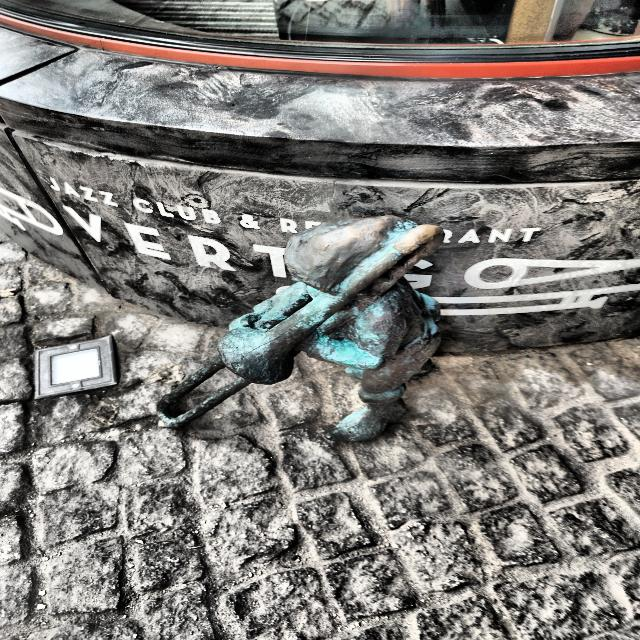Vertigus: (157, 216, 442, 441)
